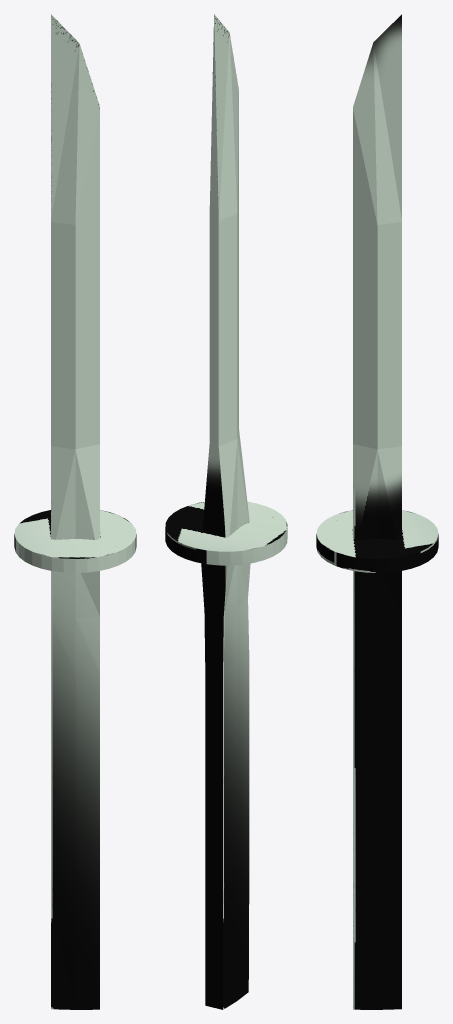
The model's file is katana.obj.
3 renders of one model, left to right at view 1: azimuth 90°, elevation 25°; view 2: azimuth 150°, elevation 25°; view 3: azimuth 270°, elevation 25°, orthographic.
Parts seen in each view (by area): view 1: Cube; view 2: Cube; view 3: Cube.
Boxes of the visible parts, x1,y1,x2,y2 form: Cube: [14, 14, 136, 1009]; Cube: [165, 14, 287, 1009]; Cube: [316, 14, 438, 1009].
Bounding box in the file's own units: 0.3471 × 3.11 × 0.3471.
